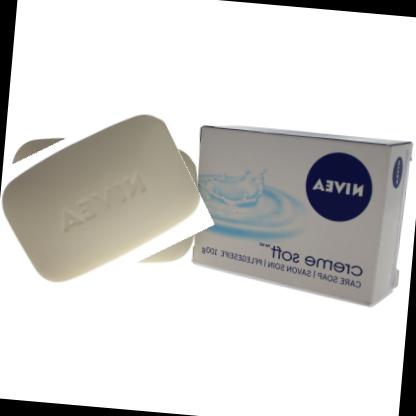soap: (0, 103, 213, 303)
